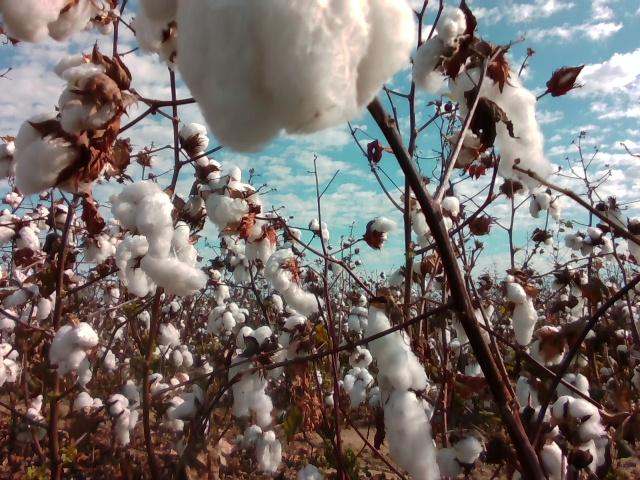cotton_ready: (175, 0, 418, 155), (448, 69, 552, 188), (227, 324, 285, 426), (13, 114, 81, 196), (384, 387, 443, 480), (369, 303, 427, 390), (413, 10, 471, 95), (55, 54, 116, 134), (111, 180, 172, 258), (266, 249, 325, 318), (0, 0, 93, 43), (198, 166, 258, 226), (133, 0, 182, 67), (139, 257, 208, 298), (116, 235, 157, 297), (550, 395, 605, 441), (435, 429, 484, 478), (51, 322, 99, 372), (506, 282, 539, 347), (551, 264, 589, 318), (455, 300, 495, 344), (6, 285, 56, 320), (413, 196, 459, 234), (0, 215, 41, 253), (79, 346, 117, 385), (530, 324, 565, 366), (15, 407, 48, 448), (179, 123, 209, 166), (171, 220, 197, 269), (170, 383, 203, 421), (245, 223, 277, 262), (108, 393, 131, 446), (83, 1, 121, 33), (539, 440, 569, 480), (452, 342, 485, 378), (343, 368, 374, 404), (575, 438, 606, 473), (227, 245, 254, 284), (514, 376, 543, 412), (528, 192, 561, 221), (208, 302, 239, 332), (369, 218, 398, 249), (124, 379, 141, 431), (389, 262, 423, 287), (257, 443, 284, 474), (195, 152, 221, 184), (0, 344, 19, 387), (583, 226, 609, 255), (242, 426, 276, 448), (559, 374, 590, 398), (219, 225, 243, 256), (85, 238, 116, 262), (155, 322, 181, 348), (0, 142, 18, 179), (50, 204, 77, 228), (74, 391, 104, 410), (347, 307, 369, 332), (172, 343, 193, 369), (149, 373, 171, 396), (298, 464, 325, 480)
